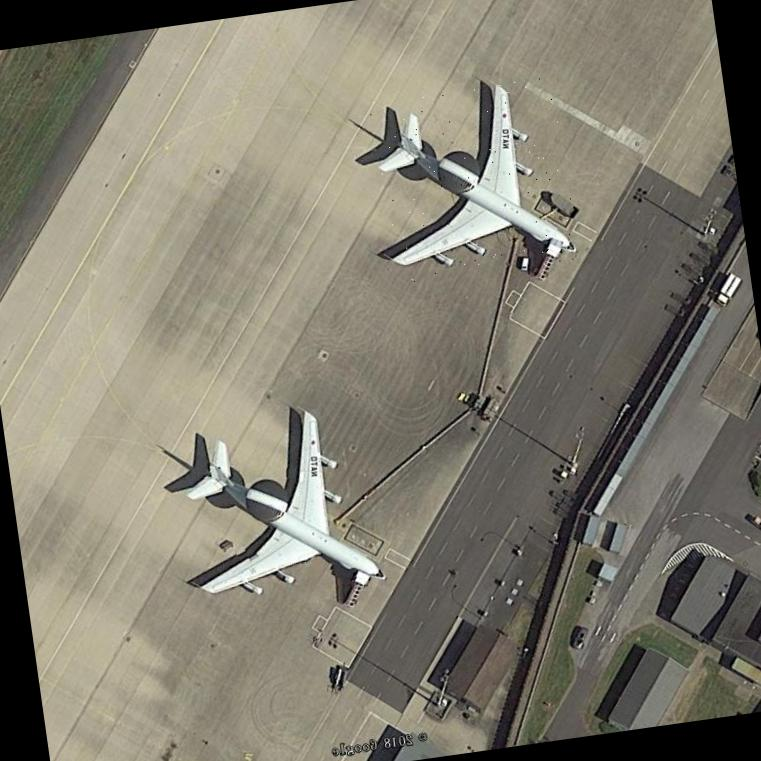A7: (176, 398, 390, 618), (365, 75, 579, 286)
